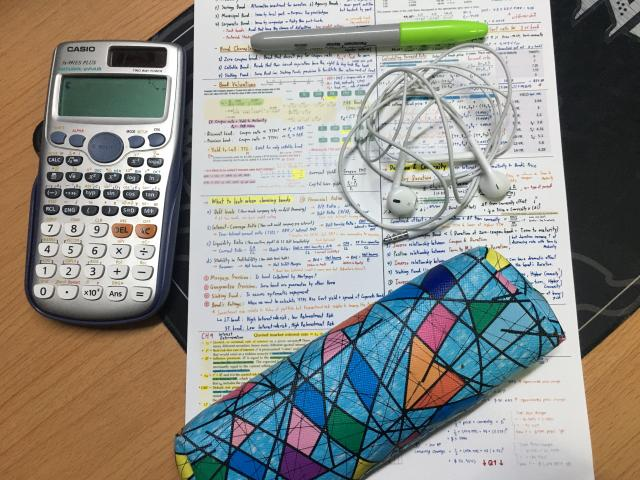Pen: (250, 21, 490, 56)
paper: (185, 0, 594, 479)
wire: (336, 42, 522, 242)
